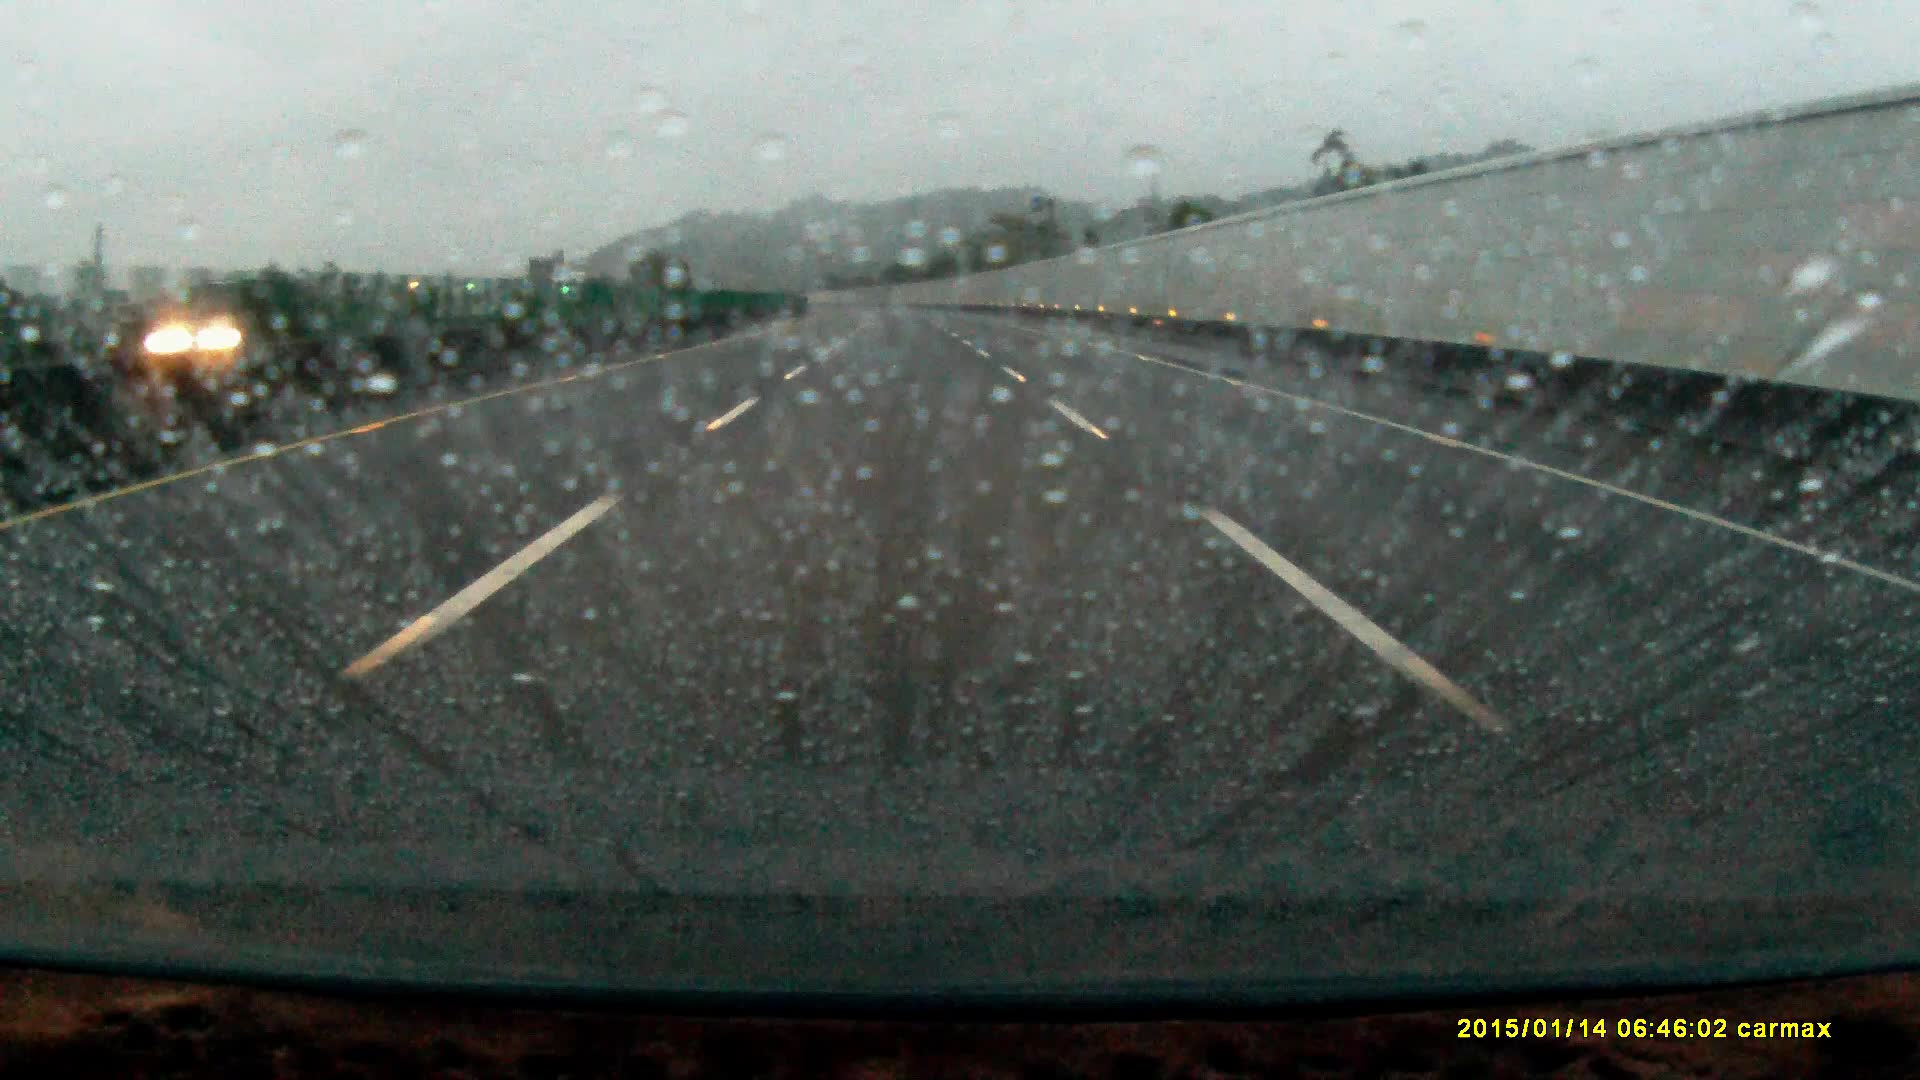vehicle: (144, 302, 284, 375)
